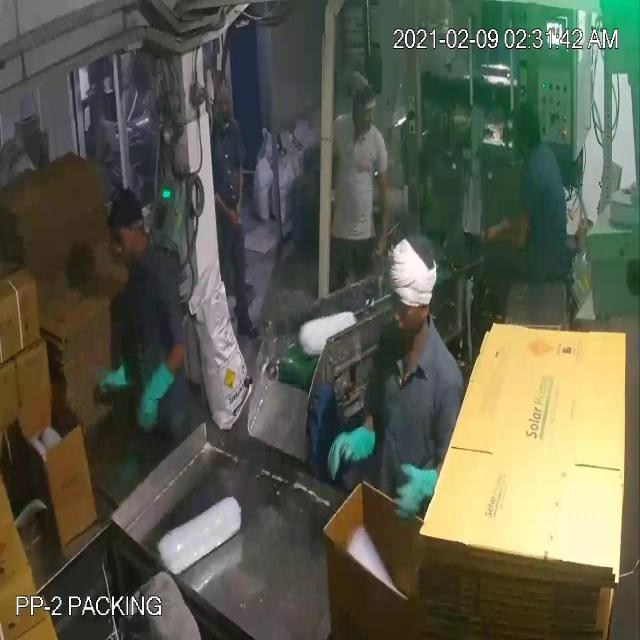gloves: (365, 443, 451, 520), (317, 404, 388, 491), (123, 355, 183, 441), (85, 348, 147, 398)
no-gloves: (465, 186, 543, 258), (370, 132, 400, 266), (200, 179, 244, 233), (230, 156, 258, 220)
